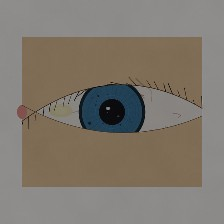pinguecula_lesion: (37, 92, 84, 130)
